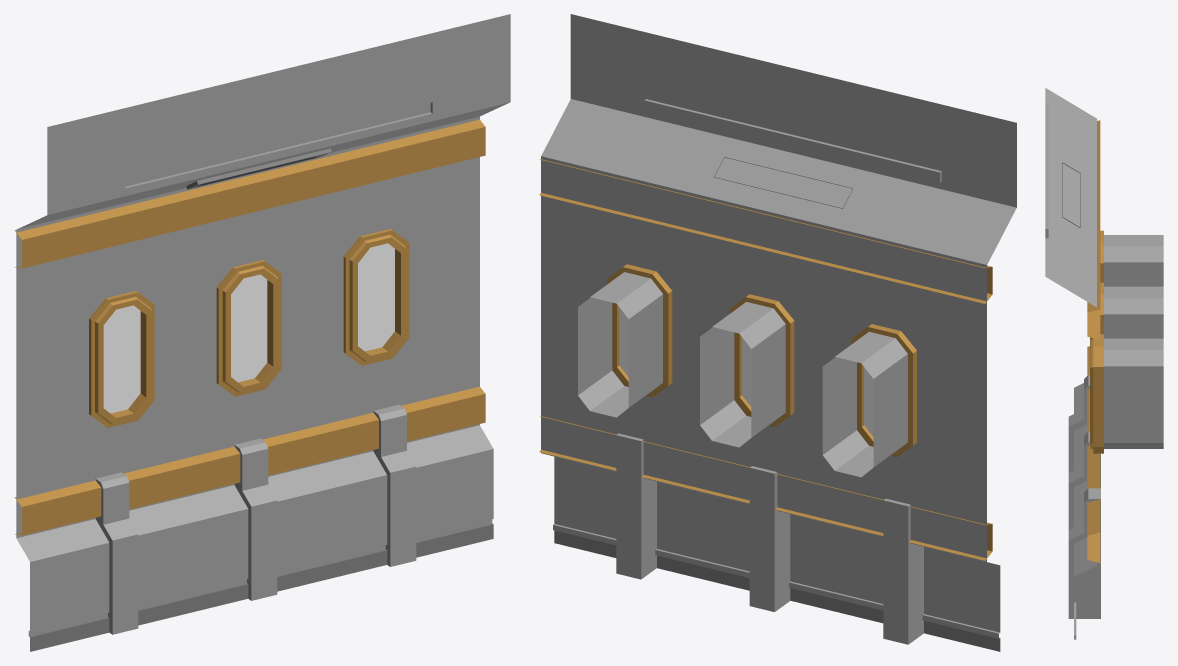
The model's file is ThreeWindows_Wall_SideA.glb.
The picture shows the model from 3 angles, left to right: view 1: azimuth 30°, elevation 25°; view 2: azimuth 150°, elevation 25°; view 3: azimuth 270°, elevation 25°; orthographic projection. The views are drawn at different scales.
Visible parts, largest first — view 1: ThreeWindows_Wall_SideA; view 2: ThreeWindows_Wall_SideA; view 3: ThreeWindows_Wall_SideA.
Part boxes in pixels (x1,y1,x2,y2): ThreeWindows_Wall_SideA: (14, 14, 510, 651); ThreeWindows_Wall_SideA: (539, 14, 1016, 651); ThreeWindows_Wall_SideA: (1045, 88, 1163, 639).
Size of the model in its own units: 4 by 4.43 by 1.06.
